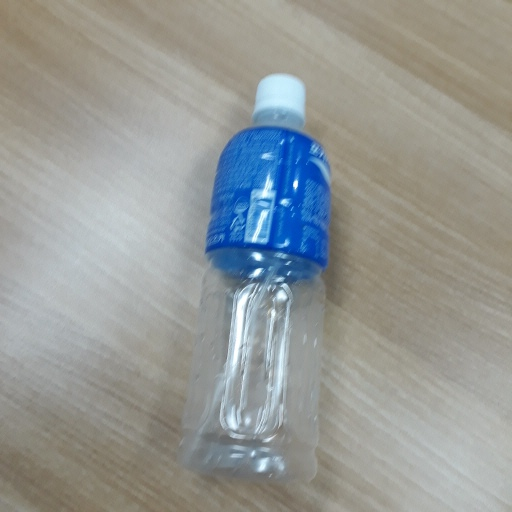Plastic_0: (190, 74, 333, 492)
